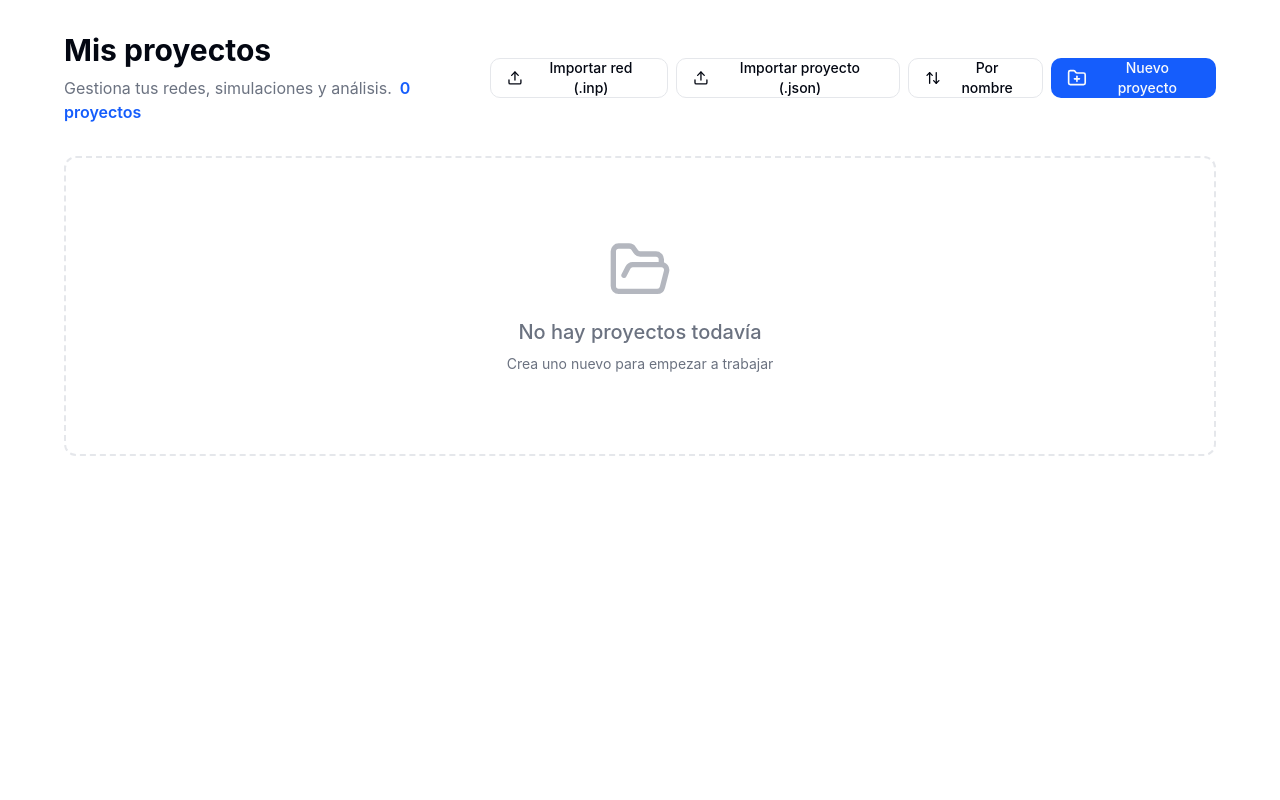
Scenario: la raíz de proyectos › «Nuevo proyecto» abre el formulario completo, con el sistema de coordenadas
Click the button "Nuevo proyecto": (1133, 78) [1051,58,1216,98]
(page scrolled)
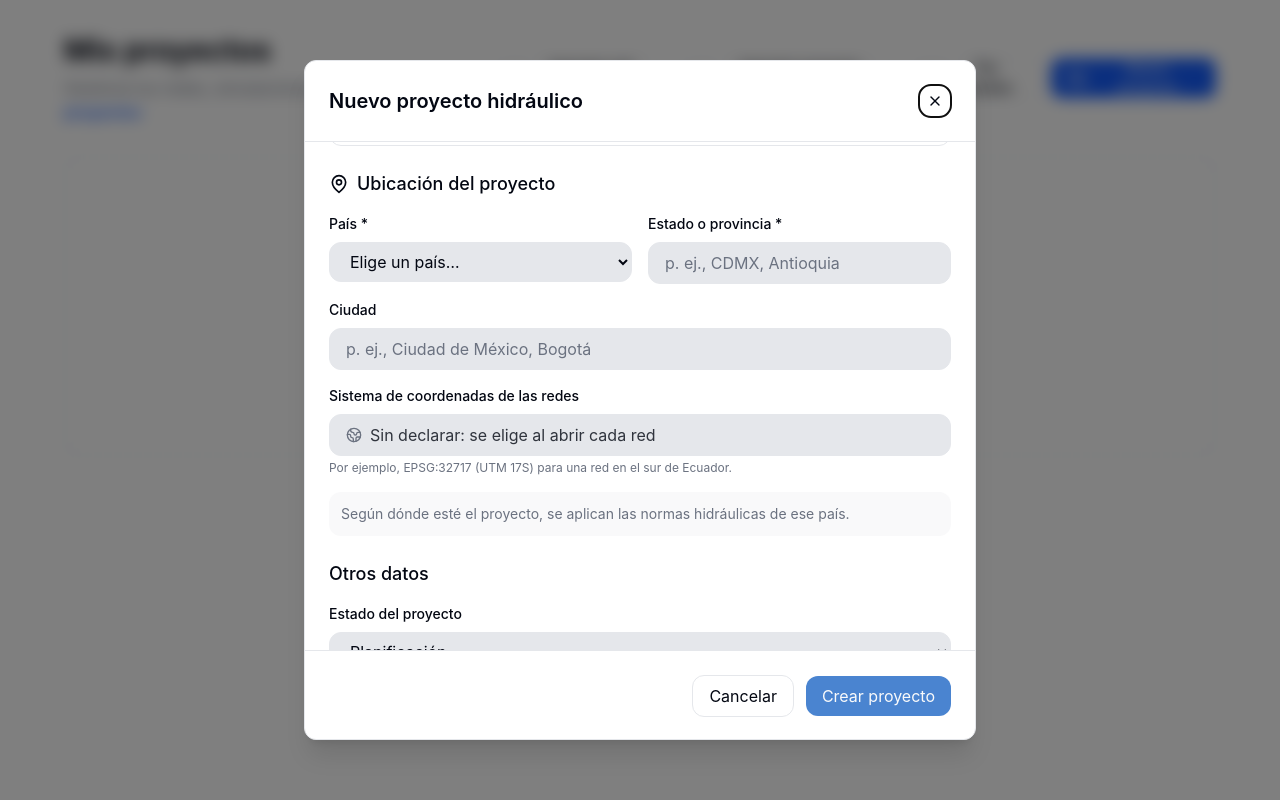
Expected: the dialog "Nuevo proyecto hidráulico" is shown, [304,60,976,740]
Expected: the text "Sistema de coordenadas de las redes" is shown, [329,387,579,404]
